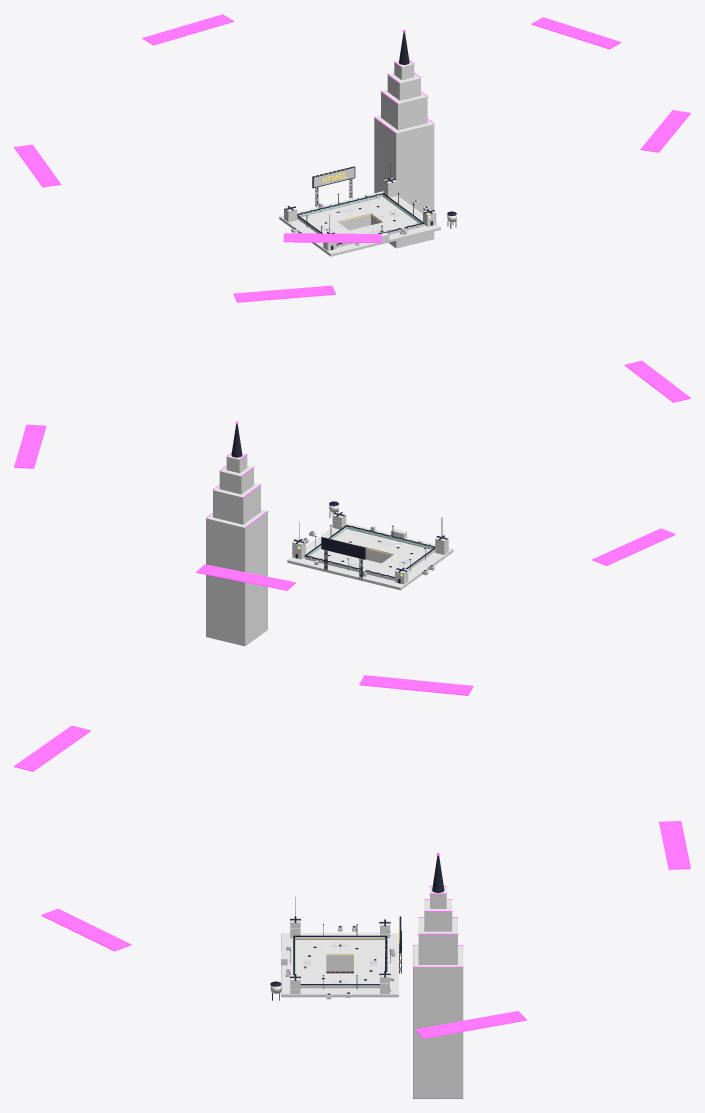
File: toit_tour.glb
3 renders of one model, top to bottom at view 1: azimuth 30°, elevation 25°; view 2: azimuth 150°, elevation 25°; view 3: azimuth 270°, elevation 25°, orthographic. The views are drawn at different scales.
Parts seen in each view (by area): view 1: DecoGradin0, DalleN, DalleS, DecoGradin1, Nuage3, Nuage0, Nuage1, Nuage4, Nuage2, DecoGradin2, PanneauFond, DalleE; view 2: DecoGradin0, DalleN, DalleS, DecoGradin1, Nuage4, Nuage1, Nuage2, Nuage3, Nuage0, DecoGradin2, Panneau; view 3: DecoGradin0, DalleS, DalleN, DecoGradin1, Nuage2, Nuage0, Nuage4, Nuage3, Nuage1, DecoGradin2.
Boxes of the visible parts, x1,y1,x2,y2 form: DecoGradin0: (374,115,434,248); DalleN: (279,191,408,232); DalleS: (312,213,440,256); DecoGradin1: (381,89,427,129); Nuage3: (283,233,381,243); Nuage0: (531,17,621,49); Nuage1: (142,14,233,45); Nuage4: (640,110,690,152); Nuage2: (14,144,61,187); DecoGradin2: (387,72,420,100); PanneauFond: (313,167,354,187); DalleE: (372,204,420,221); DecoGradin0: (206,509,267,646); DalleN: (287,545,420,590); DalleS: (320,523,453,565); DecoGradin1: (213,483,260,524); Nuage4: (233,285,335,302); Nuage1: (196,564,295,590); Nuage2: (592,528,675,565); Nuage3: (624,360,690,402); Nuage0: (14,424,46,468); DecoGradin2: (219,465,253,494); Panneau: (321,537,365,559); DecoGradin0: (413,946,463,1098); DalleS: (281,933,326,997); DalleN: (354,933,398,997); DecoGradin1: (418,917,457,964); Nuage2: (359,675,473,695); Nuage0: (415,1011,526,1038); Nuage4: (41,908,131,951); Nuage3: (14,725,90,771); Nuage1: (659,821,690,869); DecoGradin2: (424,900,452,931).
Size of the model in its own units: 285 by 92.8 by 242.
